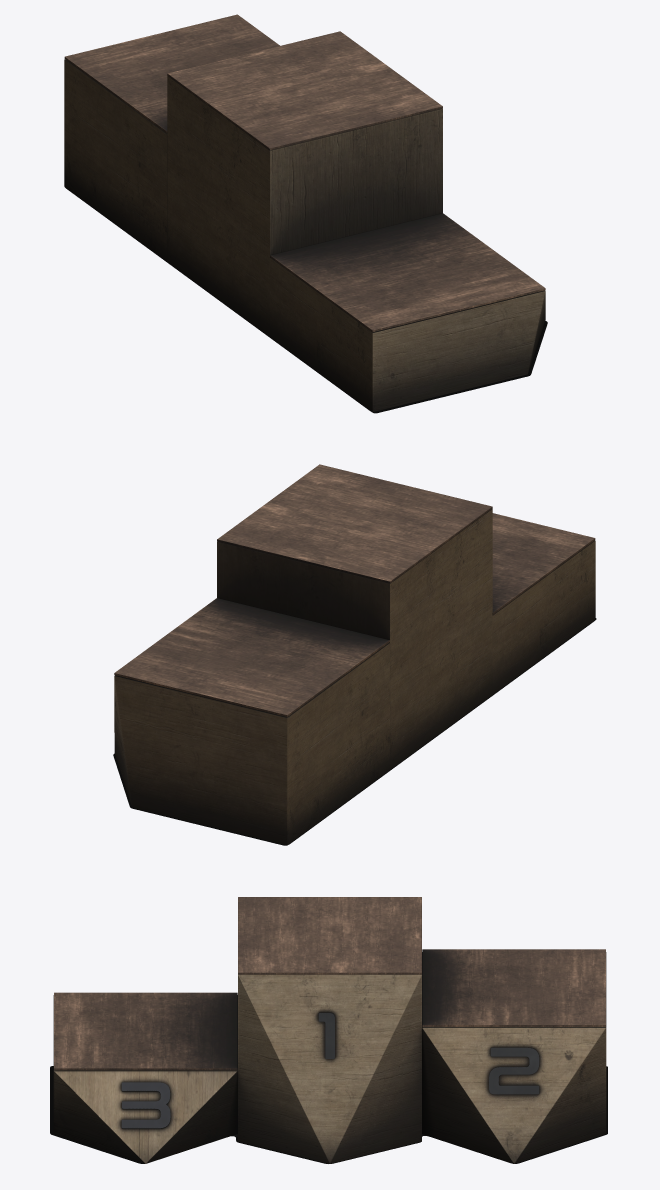
Rendered from Podium.fbx.
3 views of the same model, one above another, from view 1: azimuth 30°, elevation 25°; view 2: azimuth 150°, elevation 25°; view 3: azimuth 270°, elevation 25° (orthographic). The views are drawn at different scales.
Parts seen in each view (by area): view 1: prim0; view 2: prim0; view 3: prim0.
Boxes of the visible parts, x1,y1,x2,y2 form: prim0: (64, 14, 547, 413); prim0: (113, 464, 596, 845); prim0: (50, 897, 607, 1163).
Size of the model in its own units: 158 by 102 by 345.
